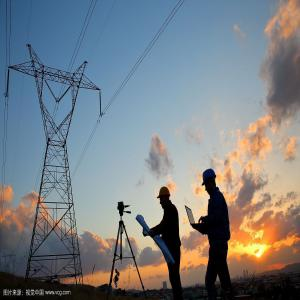blue: (203, 169, 218, 196)
yellow: (159, 187, 172, 209)
